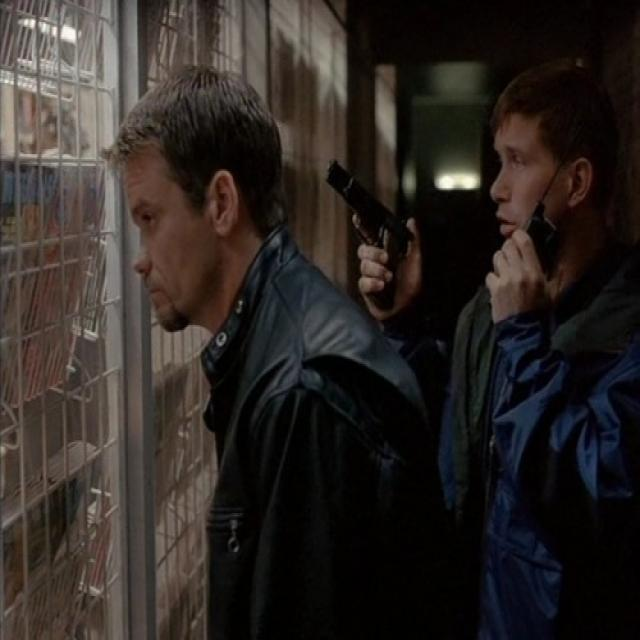weapons: (322, 150, 422, 314)
